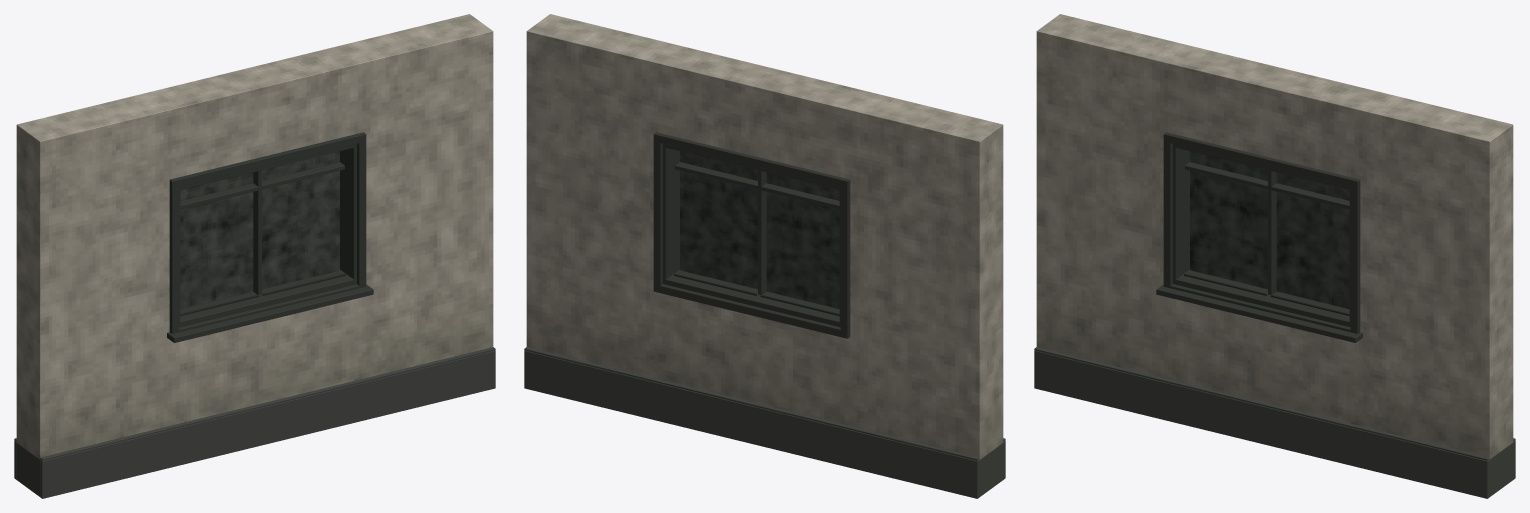
The model's file is Wall_Window.glb.
The picture shows the model from 3 angles, left to right: view 1: azimuth 30°, elevation 25°; view 2: azimuth 150°, elevation 25°; view 3: azimuth 330°, elevation 25°; orthographic projection.
Visible parts, largest first — view 1: Wall_Window_Export; view 2: Wall_Window_Export; view 3: Wall_Window_Export.
Boxes of the visible parts, x1=… form: Wall_Window_Export: x1=14, y1=14, x2=495, y2=498; Wall_Window_Export: x1=524, y1=14, x2=1005, y2=498; Wall_Window_Export: x1=1034, y1=14, x2=1515, y2=498.
Size of the model in its own units: 4 by 3 by 0.51.
Materials: 5 (5 with a texture image).
